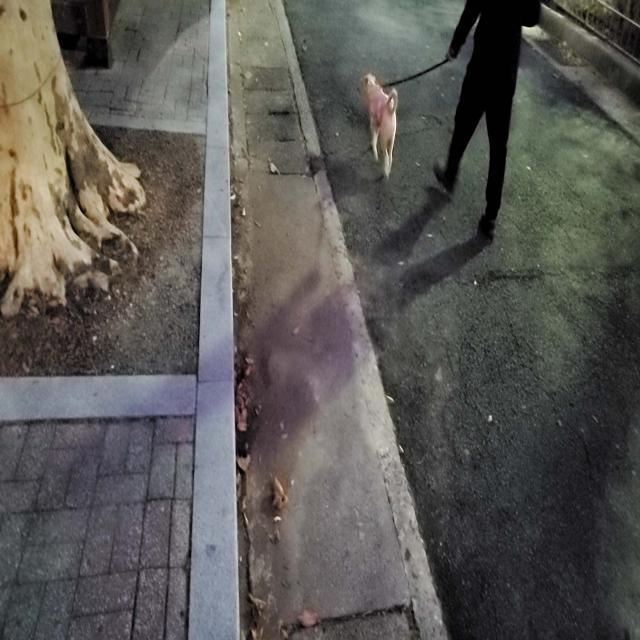Leashed_Dog: (362, 30, 489, 180)
